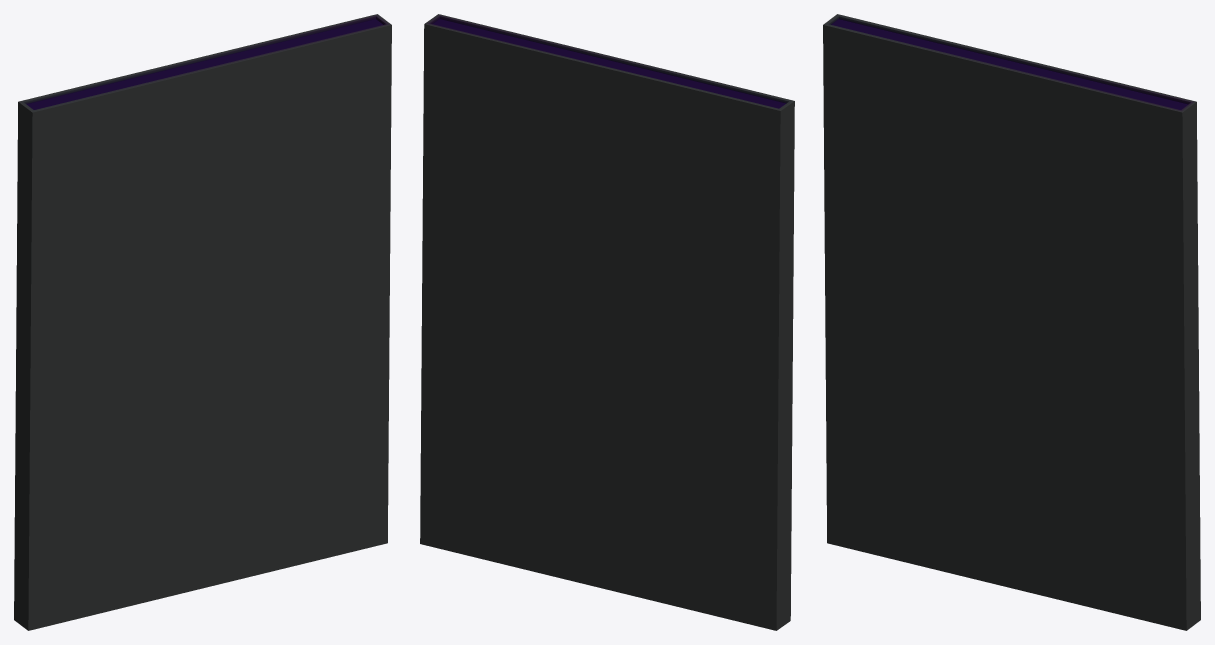
3 renders of one model, left to right at view 1: azimuth 30°, elevation 25°; view 2: azimuth 150°, elevation 25°; view 3: azimuth 330°, elevation 25°, orthographic.
Visible parts, largest first — view 1: panel_face; view 2: panel_face; view 3: panel_face.
Part boxes in pixels (x1,y1,x2,y2): panel_face: (14, 14, 391, 630); panel_face: (420, 14, 794, 630); panel_face: (823, 14, 1200, 630).
Size of the model in its own units: 0.202 by 0.2802 by 0.018.
